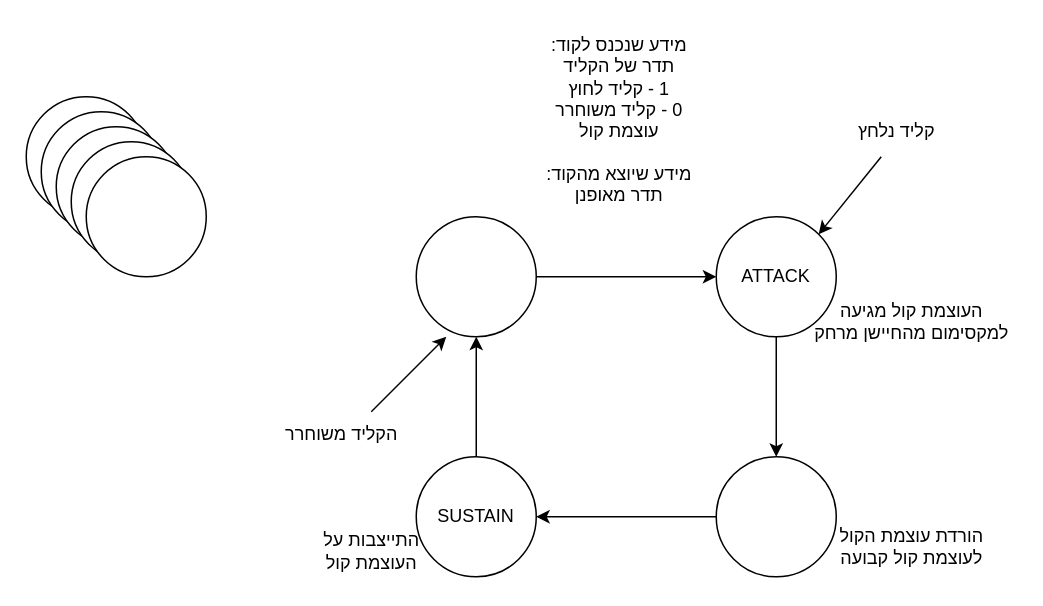
Image size: 1043x606. Some labels were removed from this diagram. The centre of each missing label's shape, as x and y in pixels:
DECAY: (775,516)
RELEASE: (475,276)
